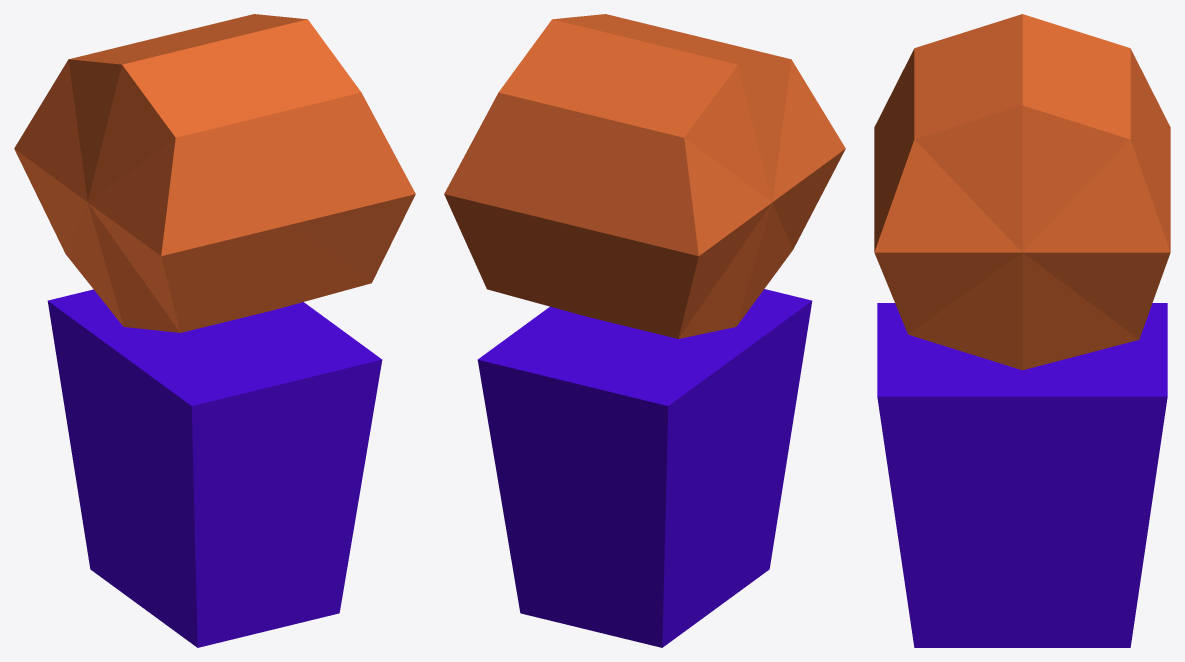
File: Player.dae
3 renders of one model, left to right at view 1: azimuth 30°, elevation 25°; view 2: azimuth 150°, elevation 25°; view 3: azimuth 270°, elevation 25°, orthographic.
Visible parts, largest first — view 1: PlayerModel.001; view 2: PlayerModel.001; view 3: PlayerModel.001.
Boxes of the visible parts, left/top/right/bottom form: PlayerModel.001: left=14, top=14, right=415, bottom=647; PlayerModel.001: left=444, top=14, right=845, bottom=647; PlayerModel.001: left=874, top=14, right=1170, bottom=647.
Bounding box in the file's own units: 0.478 × 0.478 × 0.9851.
